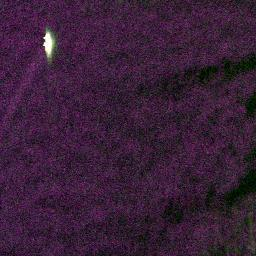Ship: (41, 29, 55, 57)
